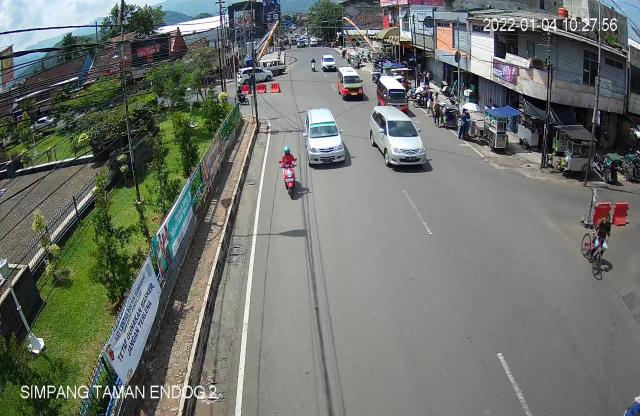Mobil: (366, 103, 432, 179), (303, 107, 350, 170), (374, 74, 409, 114)
Motor: (276, 144, 302, 200)
